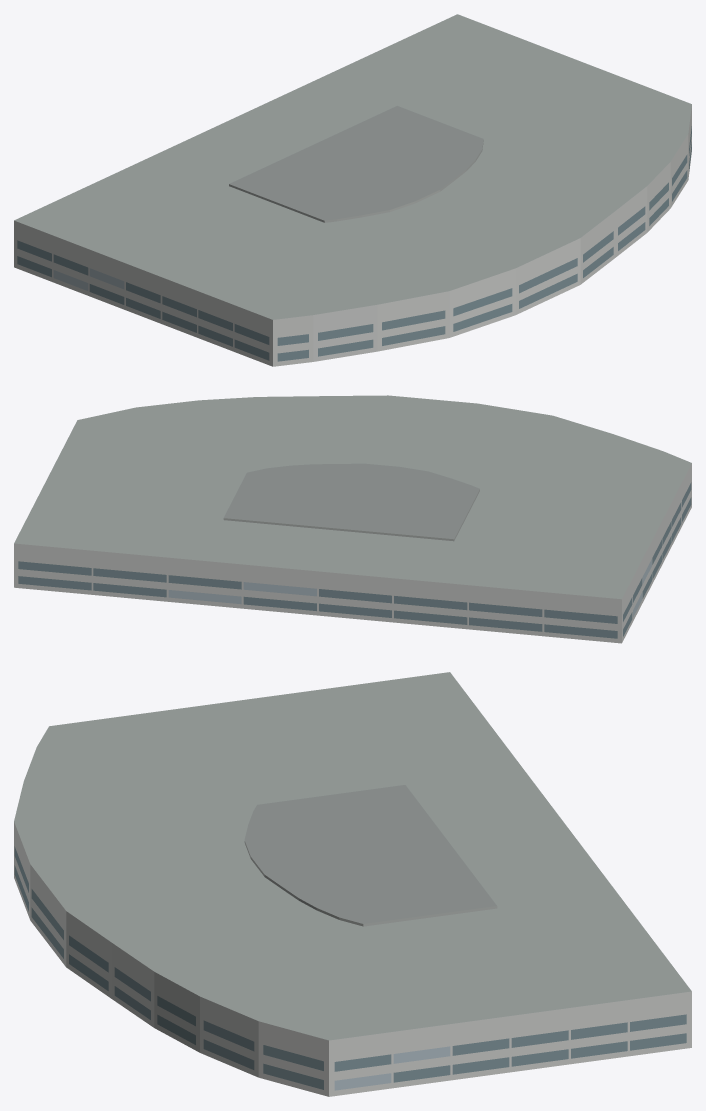
The model's file is landmark-be0f738f-daef-4e38-95d1-ddef6c3f500a.glb.
3 renders of one model, top to bottom at view 1: azimuth 30°, elevation 25°; view 2: azimuth 150°, elevation 25°; view 3: azimuth 270°, elevation 25°, orthographic. The views are drawn at different scales.
Parts seen in each view (by area): view 1: landmark-be0f738f-daef-4e38-95d1-ddef6c3f500a; view 2: landmark-be0f738f-daef-4e38-95d1-ddef6c3f500a; view 3: landmark-be0f738f-daef-4e38-95d1-ddef6c3f500a.
Part boxes in pixels (x1,y1,x2,y2): landmark-be0f738f-daef-4e38-95d1-ddef6c3f500a: (14, 14, 691, 366); landmark-be0f738f-daef-4e38-95d1-ddef6c3f500a: (14, 395, 691, 643); landmark-be0f738f-daef-4e38-95d1-ddef6c3f500a: (14, 672, 691, 1096).
Bounding box in the file's own units: 128 × 9.56 × 99.65.
